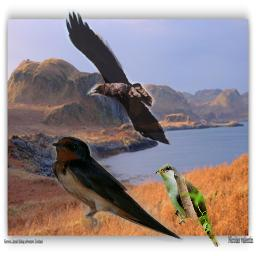Crow: (63, 9, 171, 147)
Cuckoo: (153, 164, 222, 247)
Swallow: (48, 134, 183, 242)
